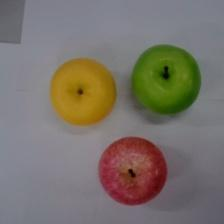green: (132, 44, 201, 115)
red: (98, 137, 166, 205)
yellow: (50, 58, 115, 128)
